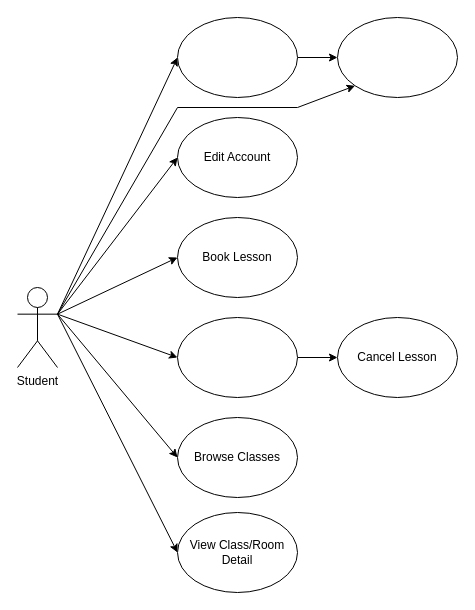
The diagram is 475 pixels wide and 610 high, and some of its shapes have lost their labels. The shapes that lost their labels are listed below. From the top down, each one's centre as x and y in pixels, then its label:
At (x=237, y=57): "Create Account".
At (x=397, y=57): "Login".
At (x=237, y=357): "View Timetable".
